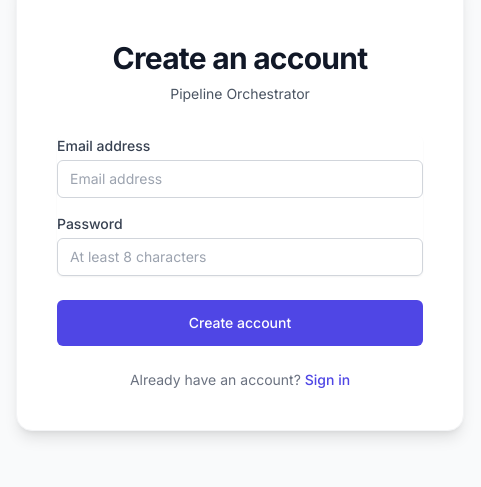
Test: RegisterPage › shows generic error message on server failure
The width and height of the screenshot is (481, 487).
Type "test@example.com" into the field labelled "Email address".
click(240, 179); type("test@example.com")  # box [57,160,423,198]
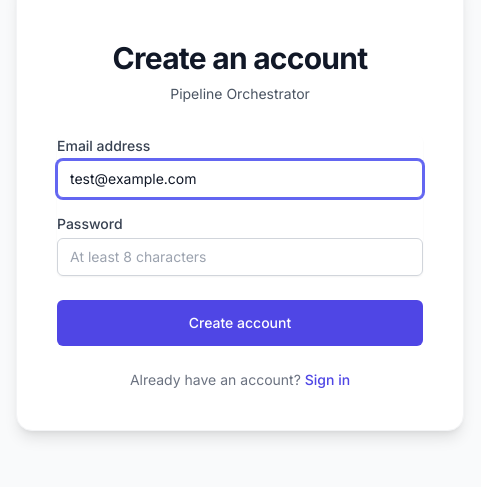
Type "validpass123" into the password field labelled "Password".
click(240, 257); type("validpass123")  # box [57,238,423,276]
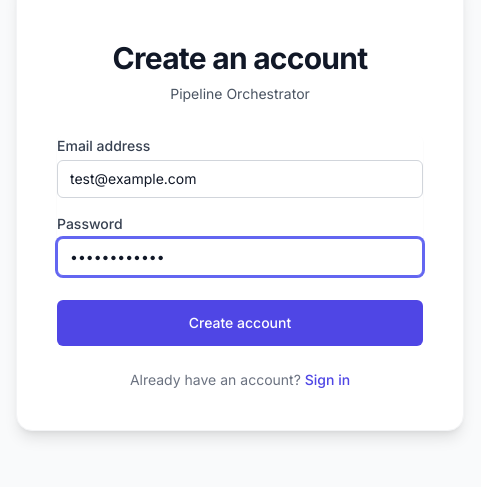
Click the button "Create account".
click(240, 323)  # box [57,300,423,346]
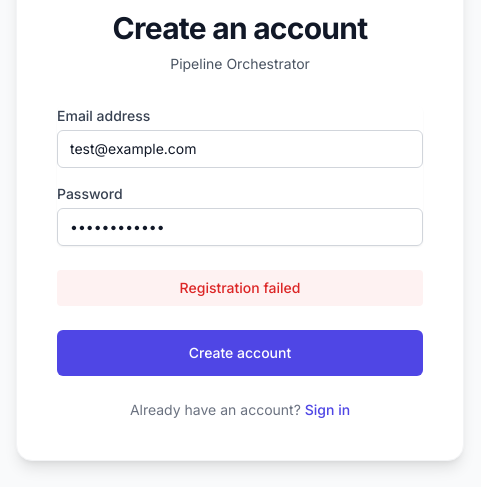
Check: the text "Registration failed" is shown, box [57,270,423,306]
